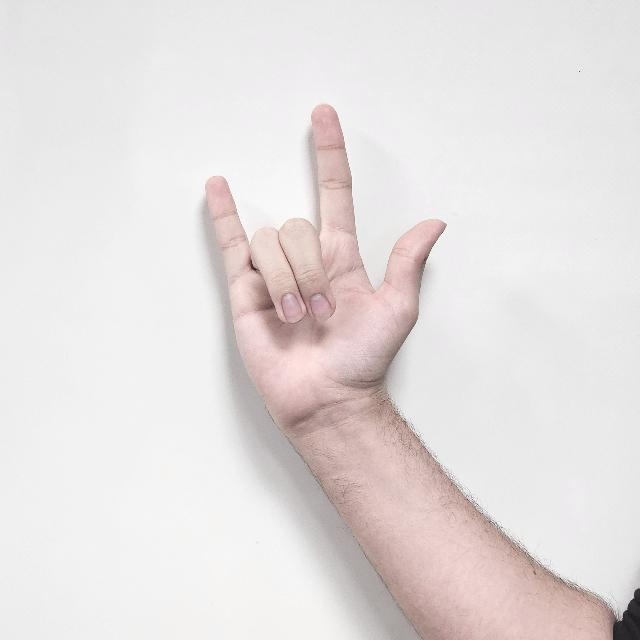Cima: (199, 96, 451, 428)
